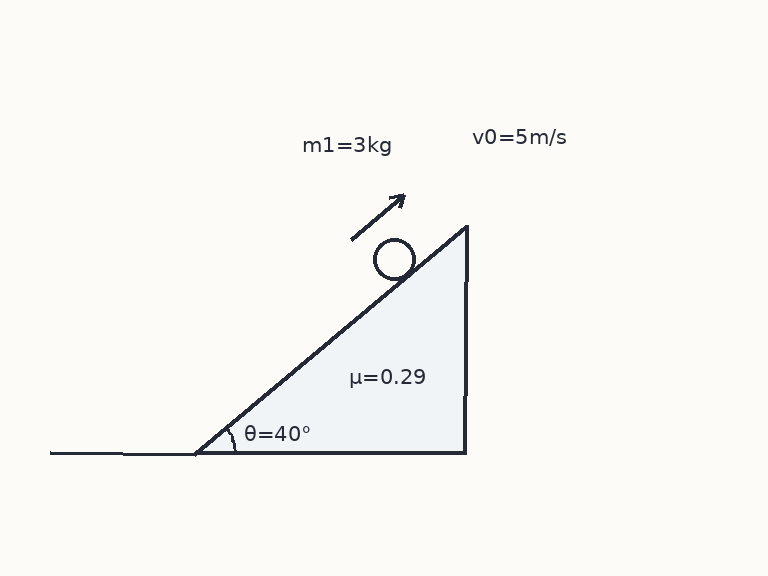ball: (371, 236, 417, 282)
ramp: (193, 224, 467, 455)
